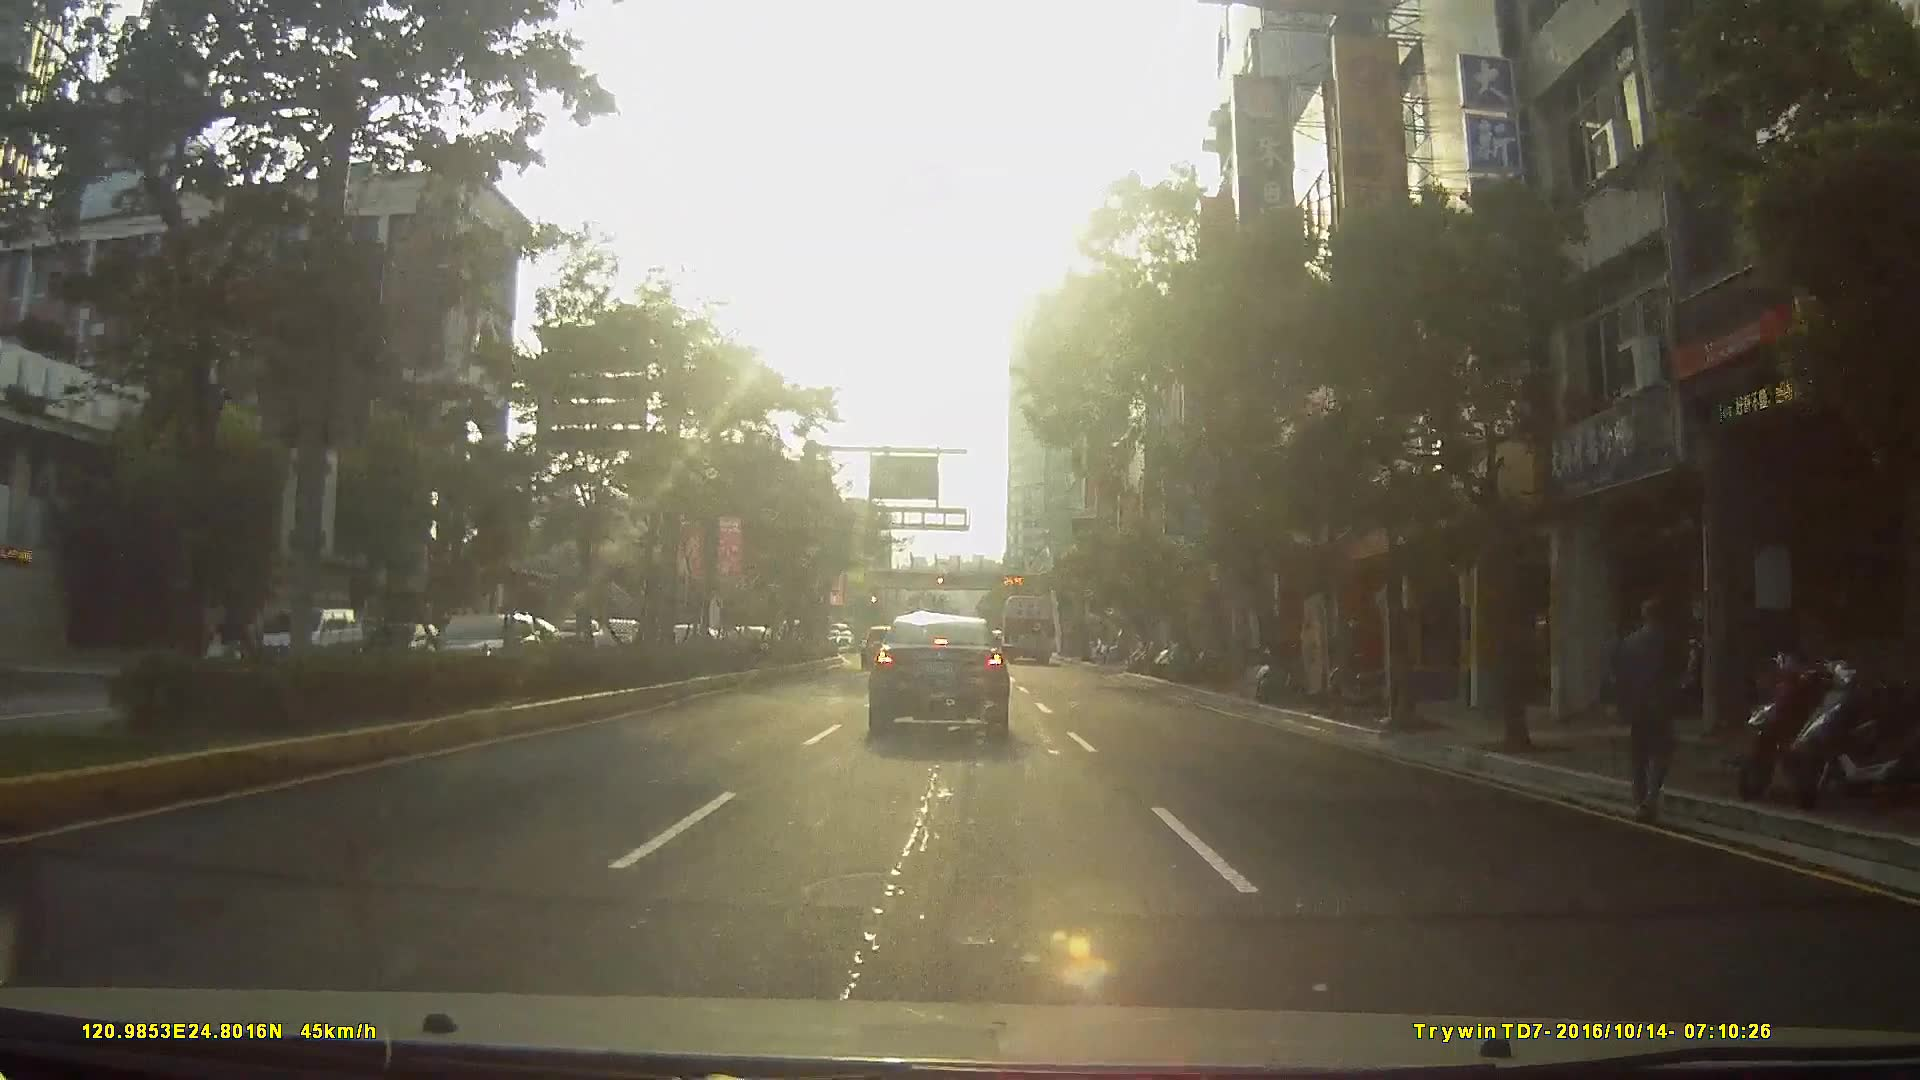pedestrian: (1619, 591, 1687, 818)
vehicle: (865, 609, 1011, 735), (250, 605, 358, 670), (998, 588, 1057, 657), (860, 622, 899, 663)
